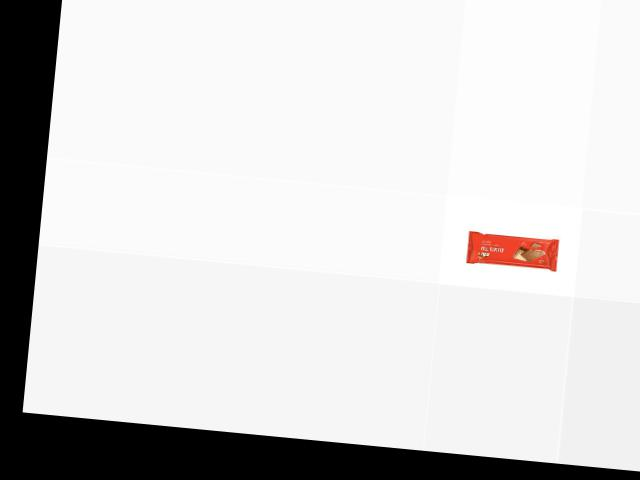chocolate: (462, 229, 558, 271)
